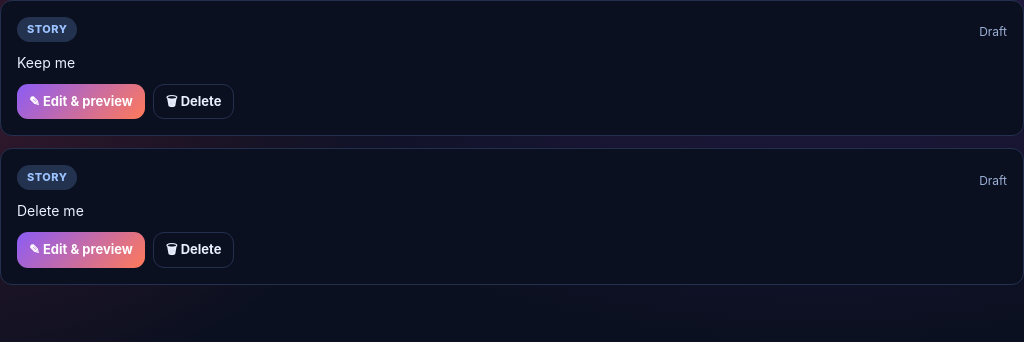
Scenario: <DraftsClient> › Delete calls DELETE /api/post/drafts/:id and optimistically removes the row
Note: Find the card for d2 and click its Delete button.
Click the button "🗑 Delete" below "Delete me" at (194, 250), box [153,232,234,268]
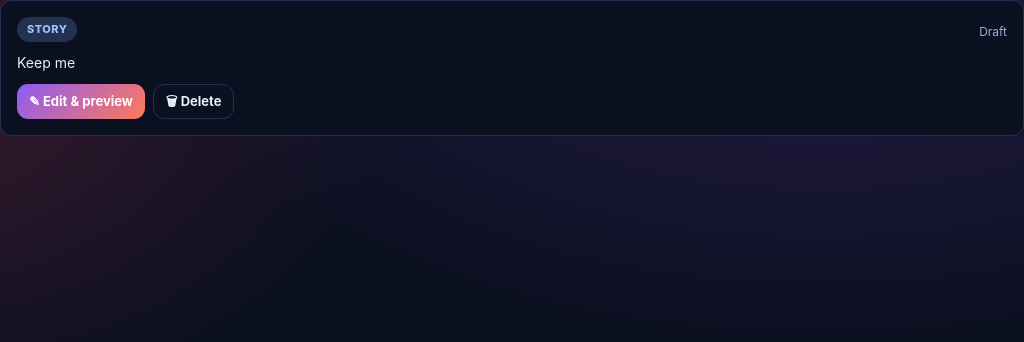
Expected: the text "Keep me" is shown, [17,54,75,70]
Result: the text "Delete me" is gone
